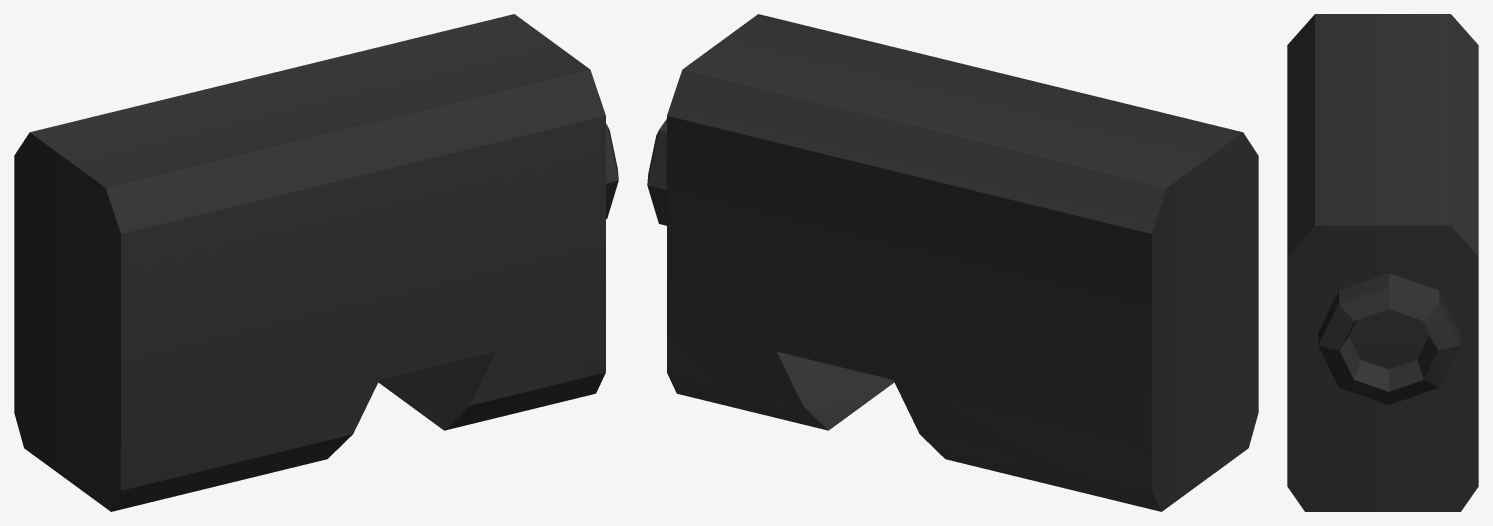
The model's file is Pistol_Silencer_mesh.fbx.
The picture shows the model from 3 angles, left to right: view 1: azimuth 30°, elevation 25°; view 2: azimuth 150°, elevation 25°; view 3: azimuth 270°, elevation 25°; orthographic projection. The views are drawn at different scales.
Parts seen in each view (by area): view 1: Pistol_Silencer_mesh; view 2: Pistol_Silencer_mesh; view 3: Pistol_Silencer_mesh.
Part boxes in pixels (x1,y1,x2,y2): Pistol_Silencer_mesh: [14, 14, 618, 511]; Pistol_Silencer_mesh: [647, 14, 1258, 511]; Pistol_Silencer_mesh: [1287, 14, 1478, 511].
Bounding box in the file's own units: 6.66 × 3.87 × 2.35.
1 material, 1 textured.
